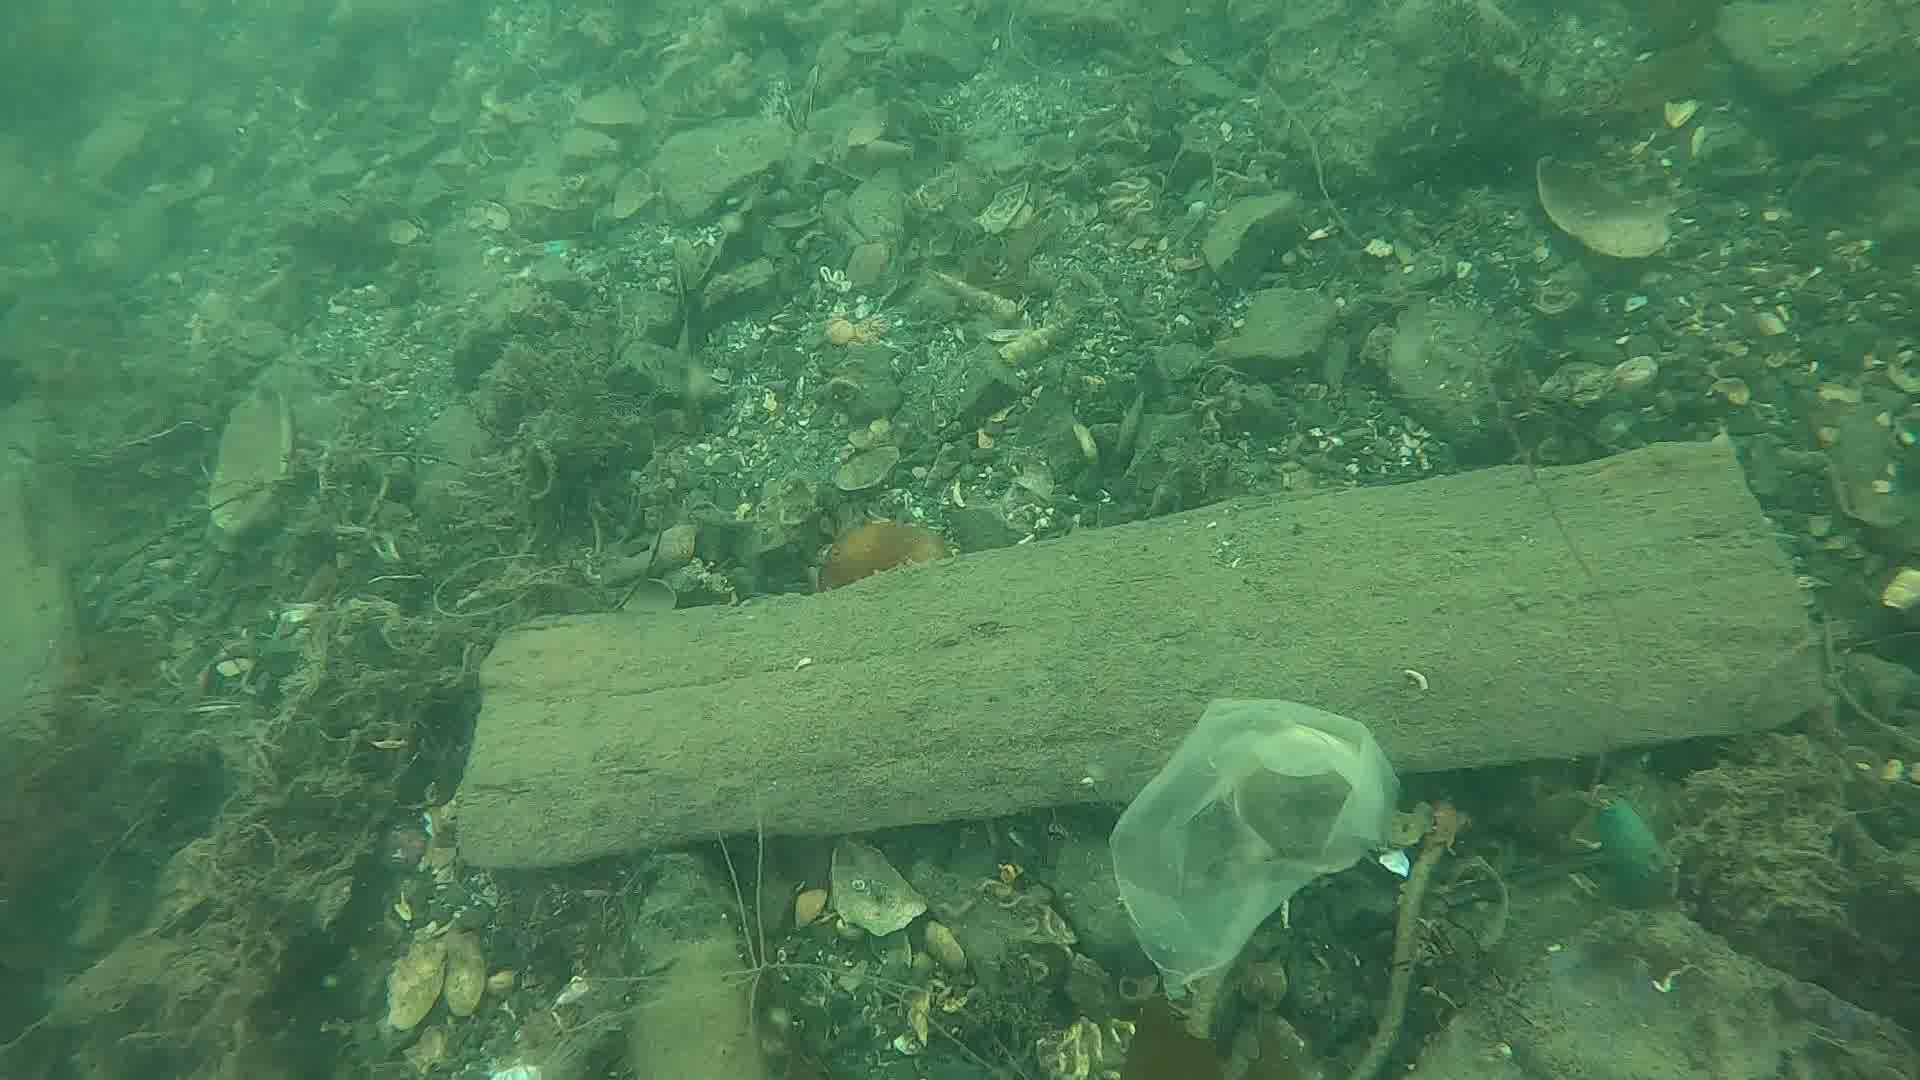wood: (452, 433, 1815, 872)
